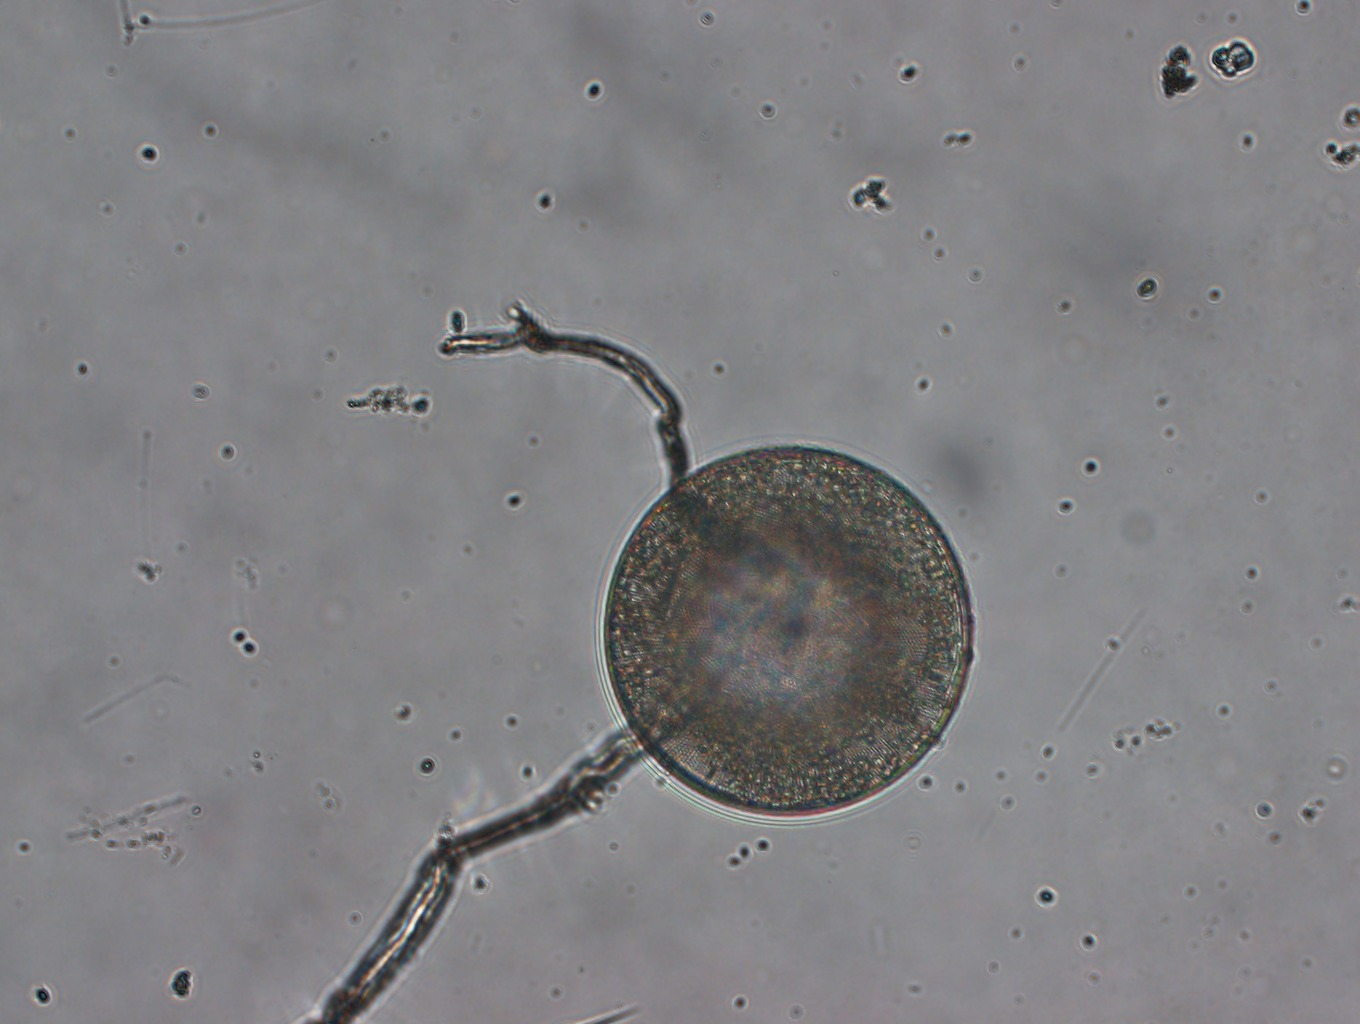coscinodiscus: (598, 432, 980, 834)
